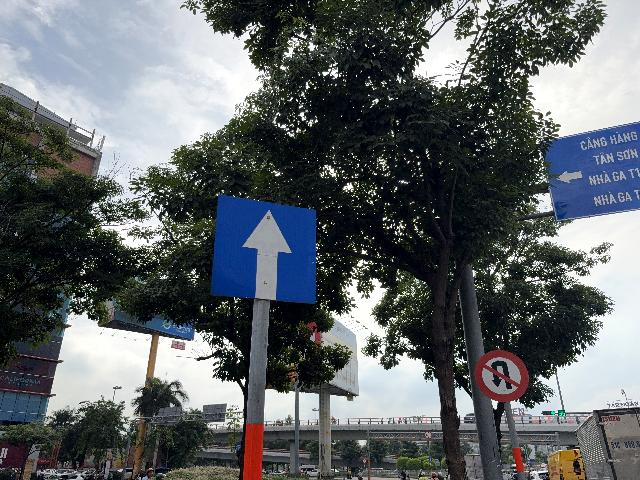cam-quay-dau-xe: (475, 350, 530, 403)
duong-mot-chieu: (210, 194, 316, 304)
